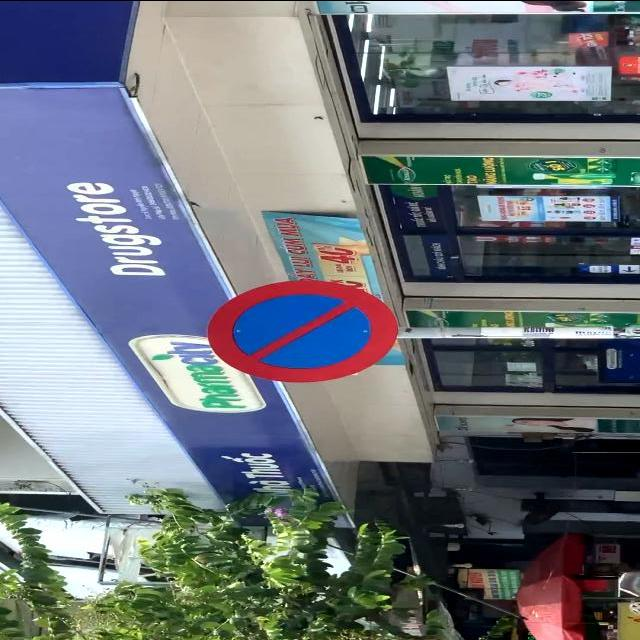P-131a: (208, 280, 396, 382)
